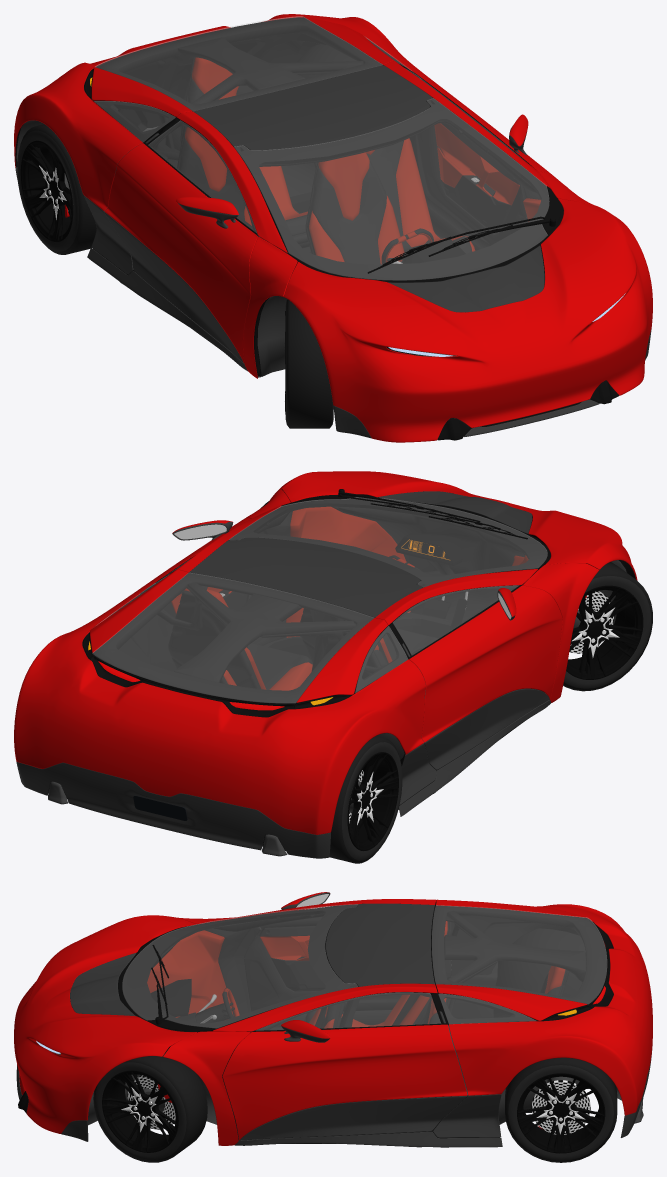
File: concept-car-low.glb
3 views of the same model, one above another, from view 1: azimuth 30°, elevation 25°; view 2: azimuth 150°, elevation 25°; view 3: azimuth 270°, elevation 25° (orthographic). The views are drawn at different scales.
Visible parts, largest first — view 1: BodyHood, BodyWindshield, BodyRearwindow, BodyDoorRColor1, BodyRearPanelsColor1, BodyRoofPanel, BodyWindshieldGasket, InteriorSeatsColor1, InteriorSeatsColor2, BodyPillars, InteriorPillar, InteriorRearHatch (+21 smaller); view 2: BodyRearPanelsColor1, BodyRearwindow, BodyWindshield, BodyDoorRColor1, BodyPanelsColor2, BodyRoofPanel, BodyHood, InteriorRearHatch, BodyPillars, InteriorPillar, BodyWindshieldGasket, InteriorDashMid (+22 smaller); view 3: BodyRearPanelsColor1, BodyWindshield, BodyDoorLColor1, BodyHood, BodyRearwindow, BodyRoofPanel, BodyPillars, BodyWindshieldGasket, BodyDoorLColor2, BodyPanelsColor2, WheelFrontL, InteriorRearHatch (+25 smaller).
Boxes of the visible parts, x1,y1,x2,y2 form: BodyHood: [283, 198, 652, 442]; BodyWindshield: [234, 98, 549, 280]; BodyRearwindow: [95, 16, 382, 110]; BodyDoorRColor1: [104, 143, 257, 362]; BodyRearPanelsColor1: [14, 14, 428, 210]; BodyRoofPanel: [193, 65, 432, 150]; BodyWindshieldGasket: [234, 99, 563, 282]; InteriorSeatsColor1: [185, 57, 475, 264]; InteriorSeatsColor2: [180, 78, 472, 264]; BodyPillars: [176, 61, 598, 378]; InteriorPillar: [158, 37, 434, 168]; InteriorRearHatch: [93, 17, 383, 117]; BodyRearPanelsColor1: [14, 569, 425, 834]; BodyRearwindow: [92, 573, 373, 703]; BodyWindshield: [229, 497, 547, 587]; BodyDoorRColor1: [409, 585, 562, 742]; BodyPanelsColor2: [16, 700, 550, 858]; BodyRoofPanel: [189, 537, 422, 617]; BodyHood: [279, 471, 637, 580]; InteriorRearHatch: [93, 573, 386, 707]; BodyPillars: [175, 489, 599, 702]; InteriorPillar: [174, 574, 417, 682]; BodyWindshieldGasket: [230, 497, 550, 587]; InteriorDashMid: [331, 503, 528, 622]; BodyRearPanelsColor1: [436, 899, 652, 1115]; BodyWindshield: [122, 904, 357, 1028]; BodyDoorLColor1: [222, 1024, 467, 1139]; BodyHood: [14, 915, 196, 1133]; BodyRearwindow: [432, 905, 606, 1003]; BodyRoofPanel: [326, 903, 434, 986]; BodyPillars: [163, 899, 437, 1145]; BodyWindshieldGasket: [118, 905, 357, 1032]; BodyDoorLColor2: [240, 1096, 467, 1140]; BodyPanelsColor2: [16, 1050, 652, 1147]; WheelFrontL: [93, 1054, 207, 1162]; InteriorRearHatch: [431, 905, 606, 1020].
Bounding box in the file's own units: 2.54 × 1.15 × 4.36.
Materials: 23 (2 with a texture image).
